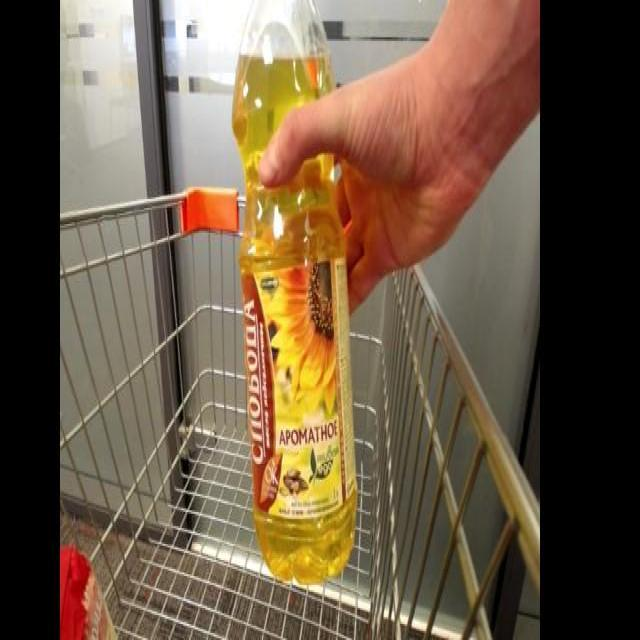Oil: (228, 2, 364, 590)
